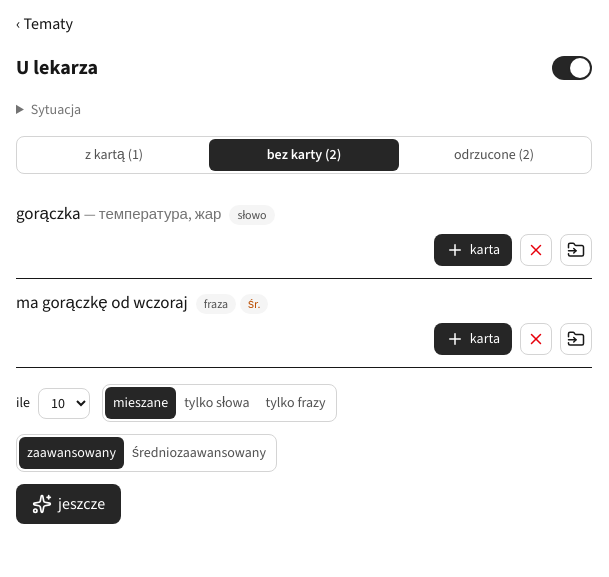
Test: TopicPage › keeps the last view on screen and shows a load error when a reload after an action fails
Check: the text "gorączka" is shown, box [16, 202, 81, 225]
Click the button "karta" below "— температура, жар" at (473, 250), box [434, 234, 512, 266]
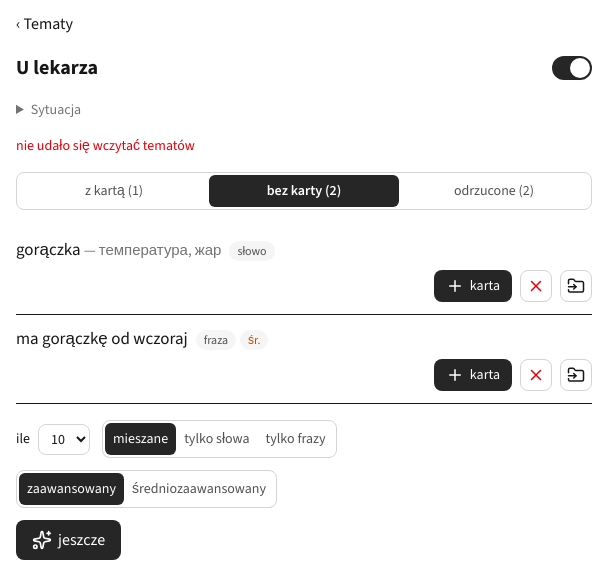
Check: the text "gorączka" is shown, box [16, 238, 81, 261]
Check: the text "nie udało się wczytać tematów" is shown, box [16, 136, 195, 155]
